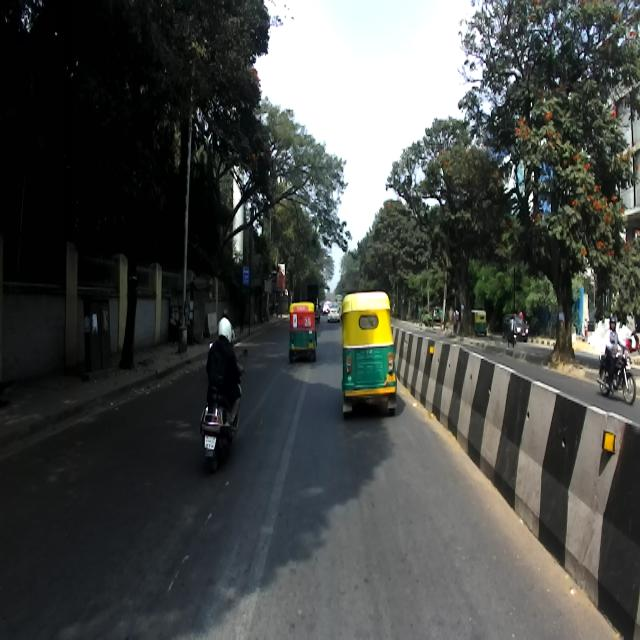auto ahead at: (338, 289, 396, 421), (286, 297, 318, 362)
motorcycle ahead at: (197, 399, 244, 468)
truck ahead at: (118, 246, 145, 369)
